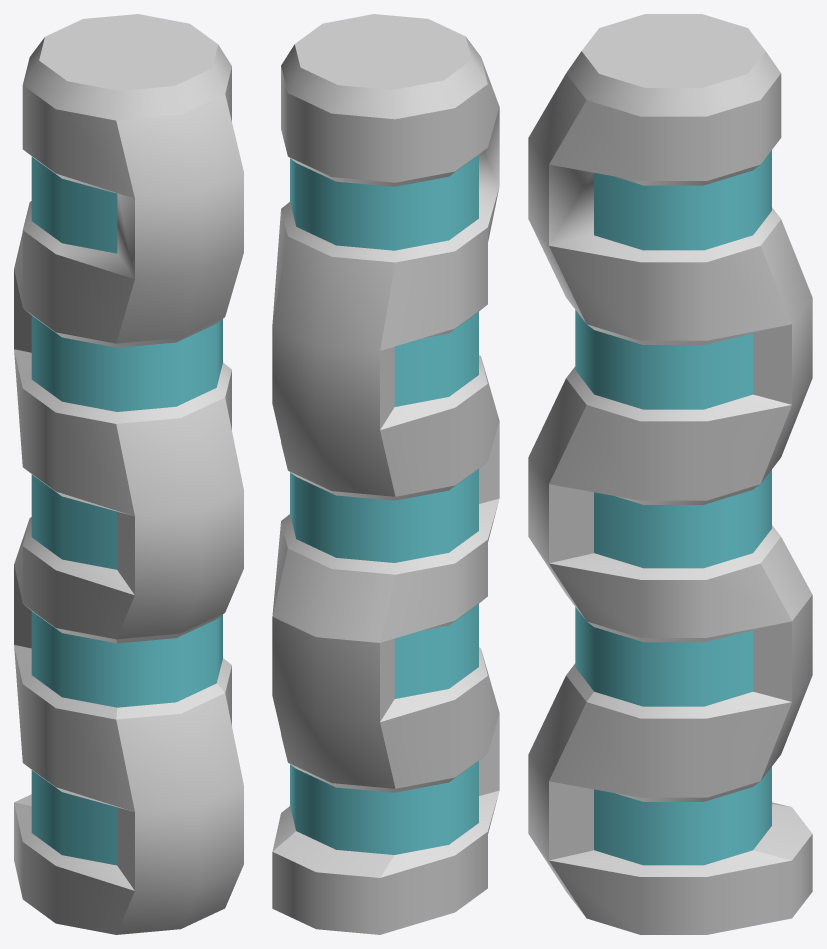
Rendered from Buillding2.fbx.
3 renders of one model, left to right at view 1: azimuth 30°, elevation 25°; view 2: azimuth 150°, elevation 25°; view 3: azimuth 270°, elevation 25°, orthographic.
Parts seen in each view (by area): view 1: Cylinder; view 2: Cylinder; view 3: Cylinder.
Boxes of the visible parts, x1,y1,x2,y2 form: Cylinder: (14, 14, 243, 934); Cylinder: (272, 14, 499, 934); Cylinder: (528, 14, 812, 934).
Bounding box in the file's own units: 1466 × 6650 × 2036.
